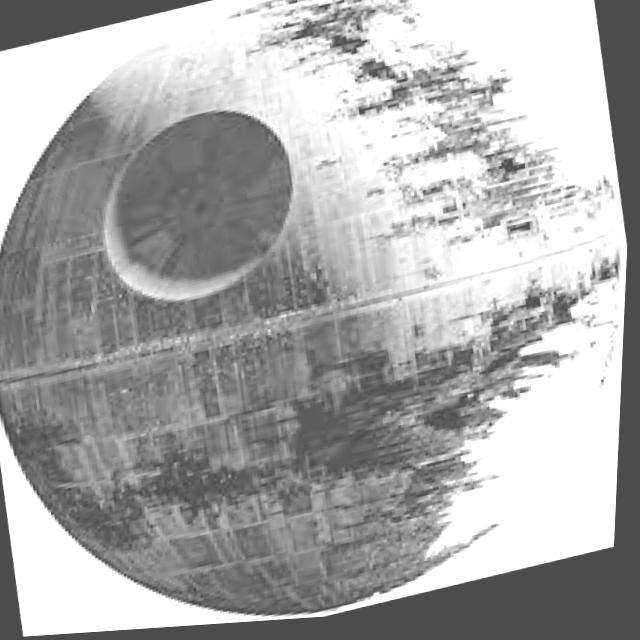death-stars: (0, 0, 619, 623)
